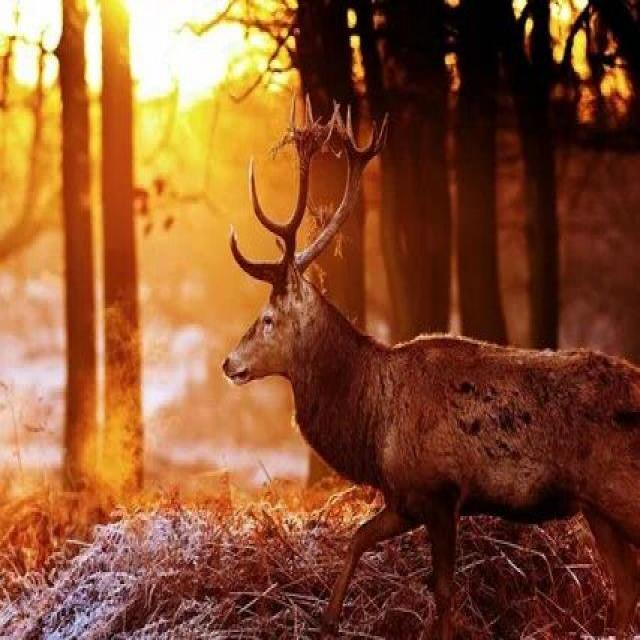deer: (206, 77, 640, 600)
